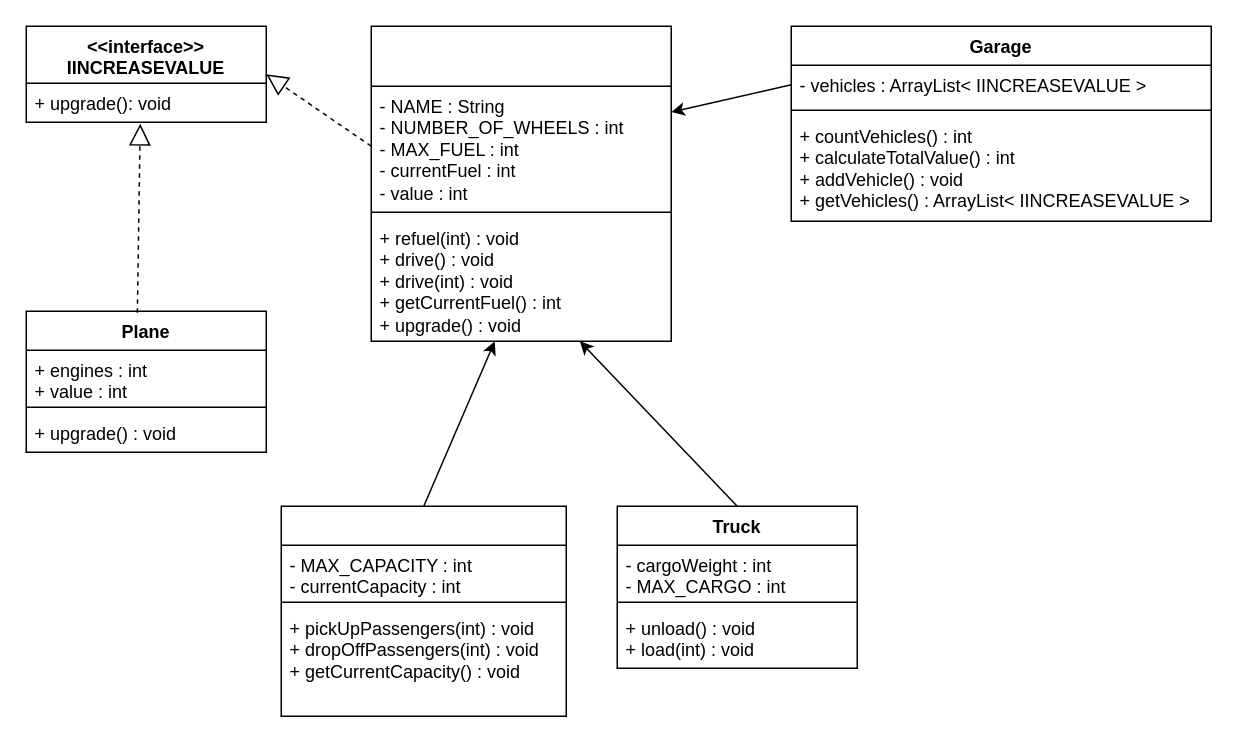
Some shapes in this 1238 by 747 pixel diagram are drawn without their labels. Here are the shapes that lost their labels. From the top down, the box of each, then its label:
(370, 25, 671, 341): <<Abstract>> LandVehicle
(280, 505, 566, 716): Bus
